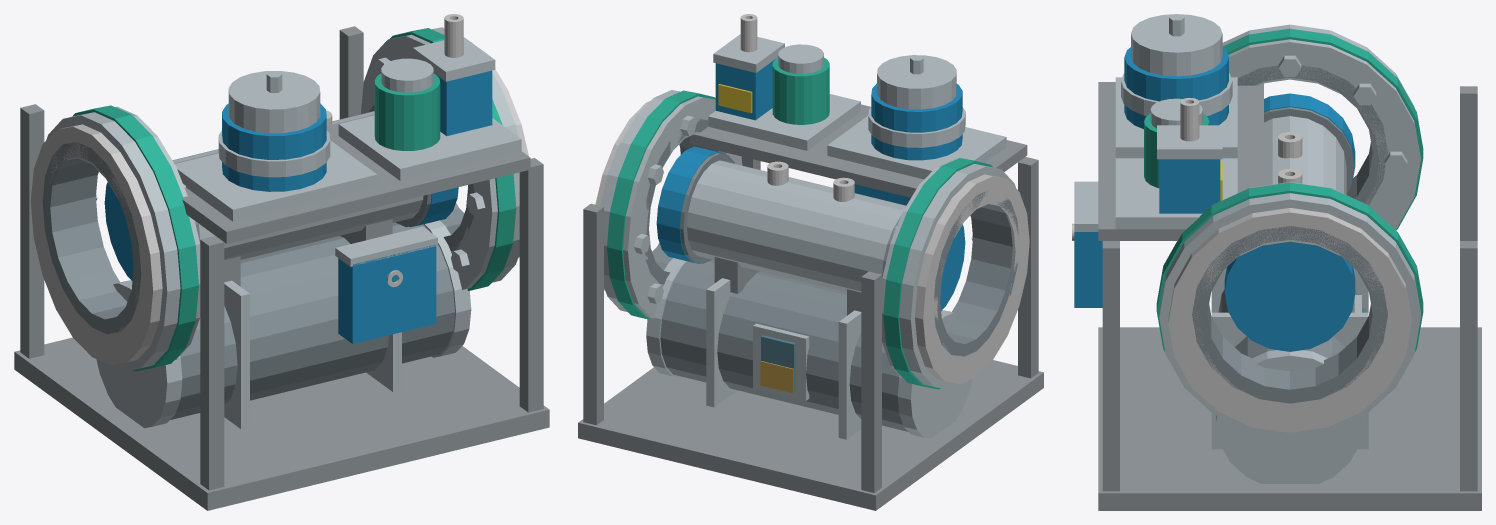
The model's file is body.obj.
The picture shows the model from 3 angles, left to right: view 1: azimuth 30°, elevation 25°; view 2: azimuth 150°, elevation 25°; view 3: azimuth 270°, elevation 25°; orthographic projection. The views are drawn at different scales.
Bounding box in the file's own units: 1 × 0.975 × 0.94.
